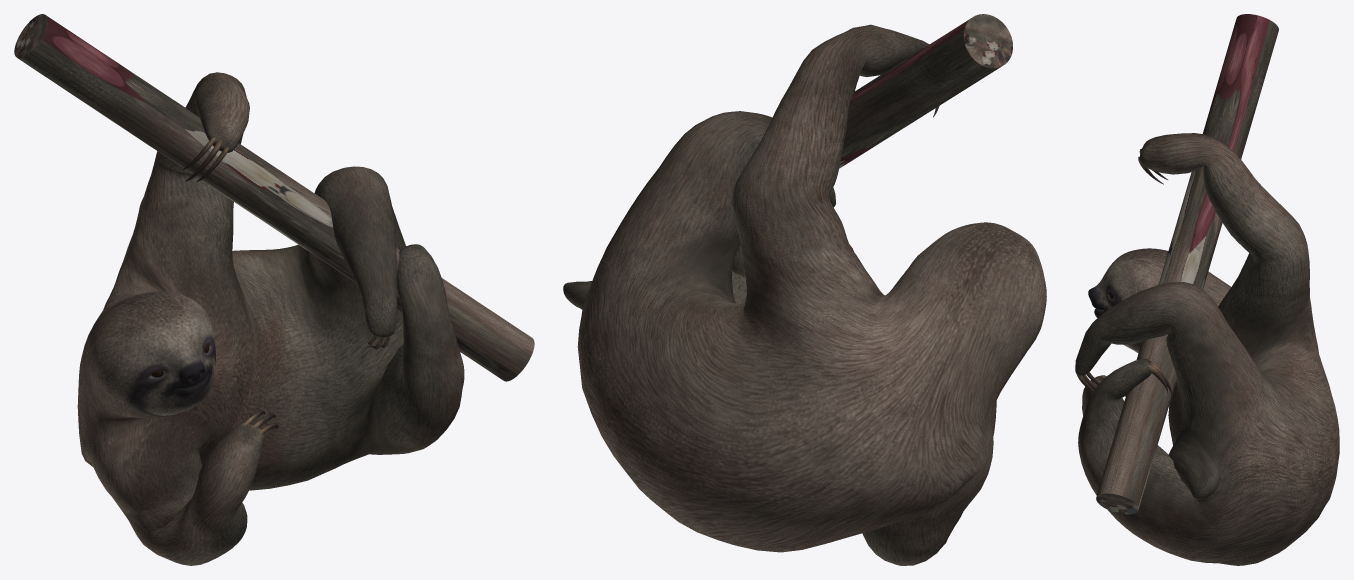
The model's file is sloth.glb.
The picture shows the model from 3 angles, left to right: view 1: azimuth 30°, elevation 25°; view 2: azimuth 150°, elevation 25°; view 3: azimuth 270°, elevation 25°; orthographic projection. The views are drawn at different scales.
Visible parts, largest first — view 1: Sloth; view 2: Sloth; view 3: Sloth.
Part boxes in pixels (left/top/right/bottom): Sloth: left=14, top=14, right=534, bottom=565; Sloth: left=563, top=14, right=1046, bottom=565; Sloth: left=1075, top=14, right=1339, bottom=565.
Bounding box in the file's own units: 65.33 × 77.67 × 40.14.
1 material, 1 textured.
